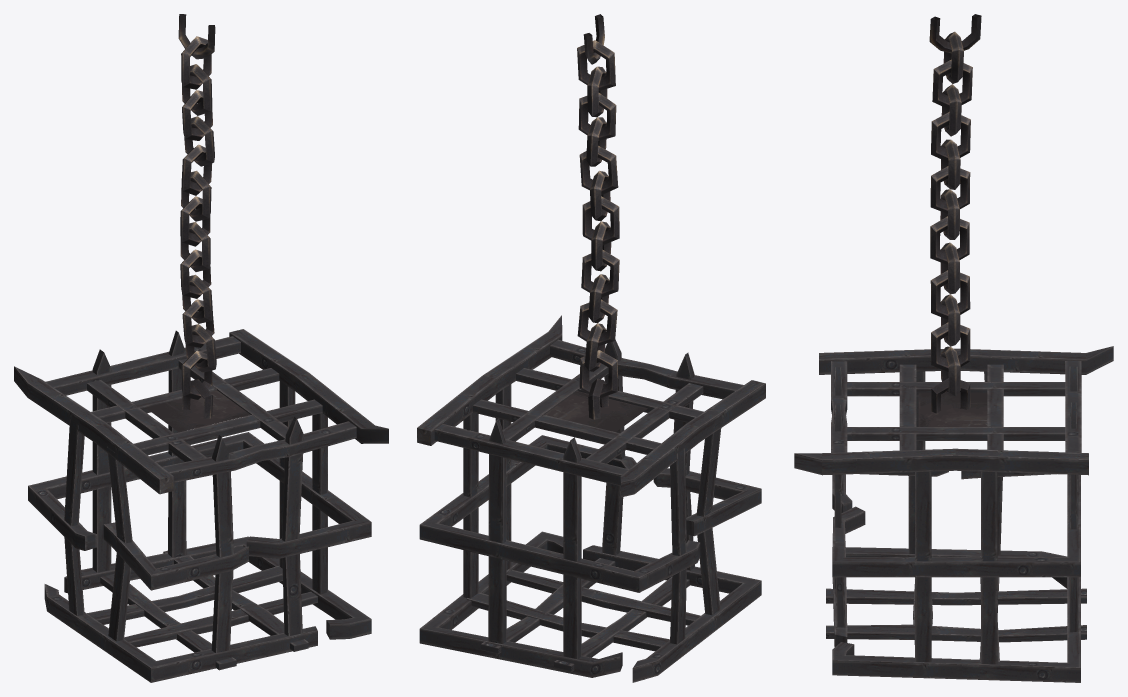
The model's file is 6002_Item_tielong01.FBX.
3 renders of one model, left to right at view 1: azimuth 30°, elevation 25°; view 2: azimuth 150°, elevation 25°; view 3: azimuth 270°, elevation 25°, orthographic.
Visible parts, largest first — view 1: 6002_Item_tielong01; view 2: 6002_Item_tielong01; view 3: 6002_Item_tielong01.
Part boxes in pixels (<box>): 6002_Item_tielong01: <box>14,14,388,682</box>; 6002_Item_tielong01: <box>417,14,765,682</box>; 6002_Item_tielong01: <box>794,14,1113,682</box>.
Size of the model in its own units: 104 by 265 by 125.
